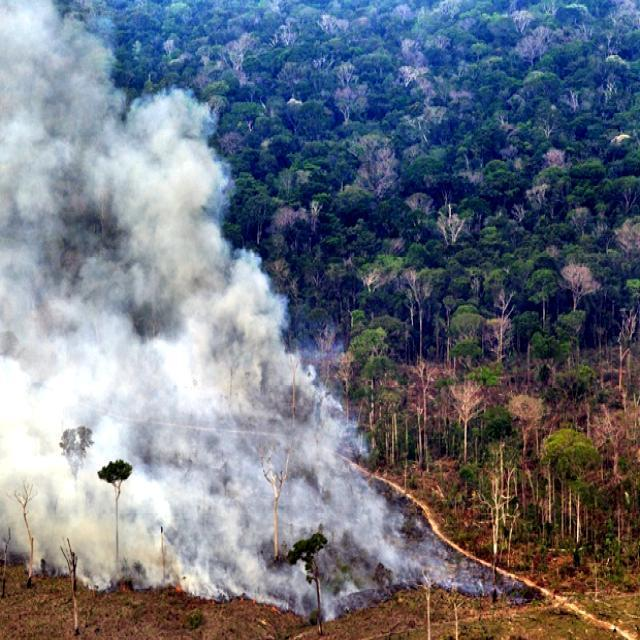Smoke: (0, 0, 405, 617)
